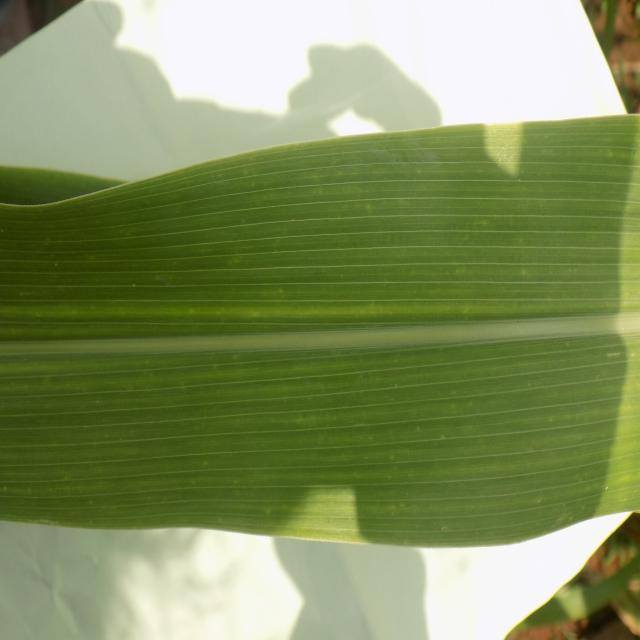millet_healthy: (0, 114, 640, 546)
